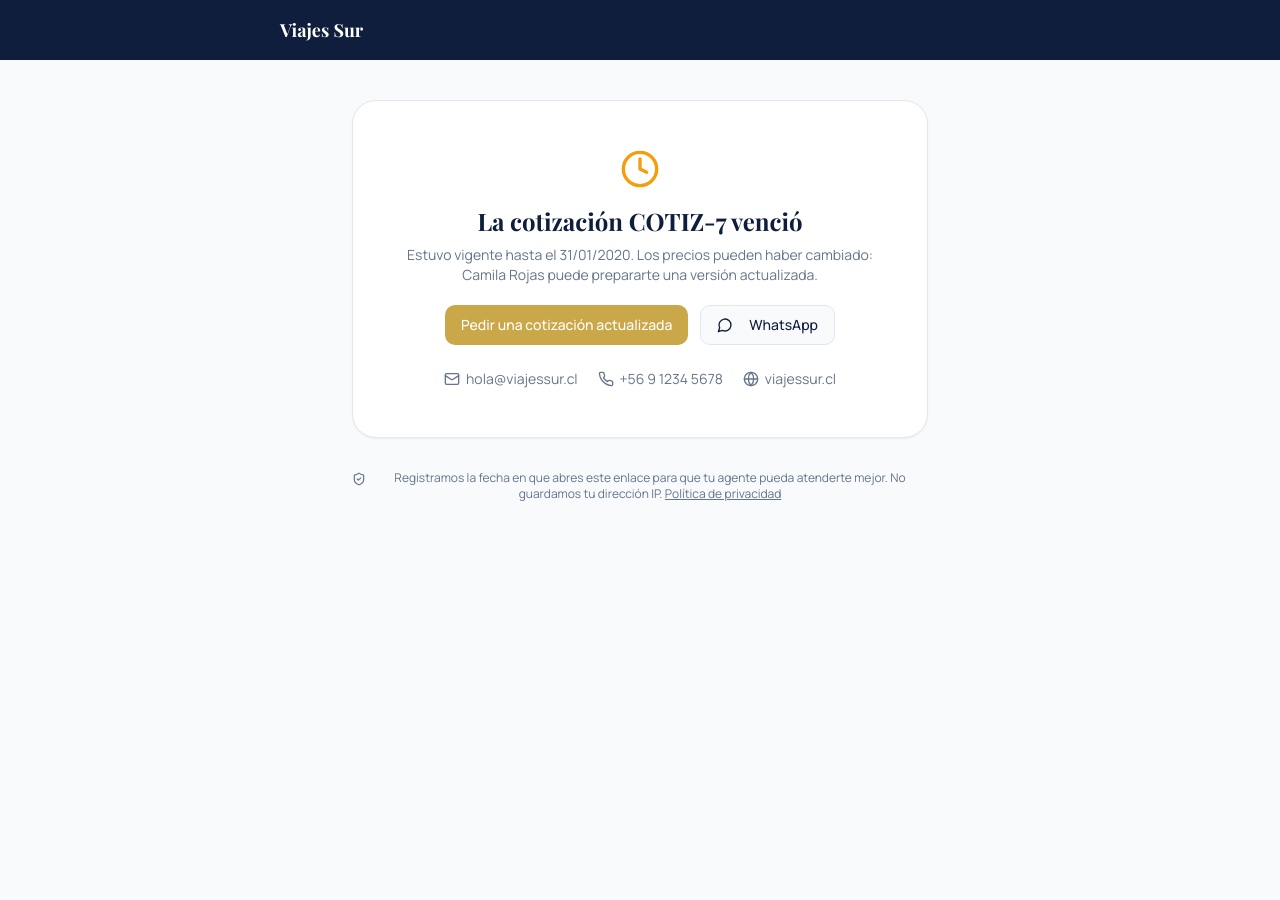
Test: PublicQuotation › cotización vencida: no muestra precios, ofrece pedir una actualizada y WhatsApp
Expected: the heading "La cotización COTIZ-7 venció" is shown, [478,205,803,237]
Expected: the text "hasta el 31/01/2020" is shown, [407,245,873,284]
Click the button "Pedir una cotización actualizada" at coordinates (567, 325), box [445,305,688,345]
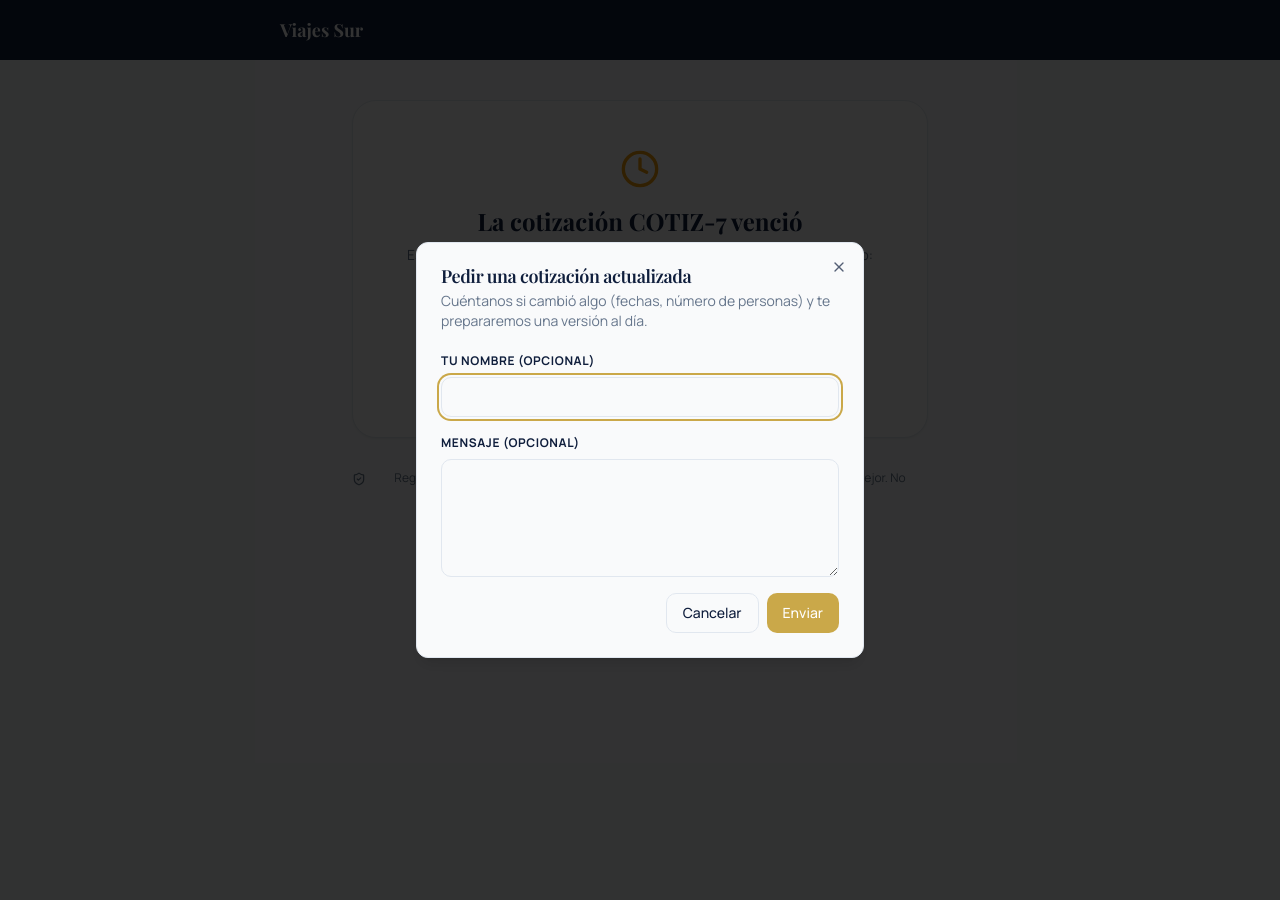
Type "Sigo interesada" into the text box labelled "Mensaje (opcional)" at coordinates (640, 518), box [441,459,839,577]
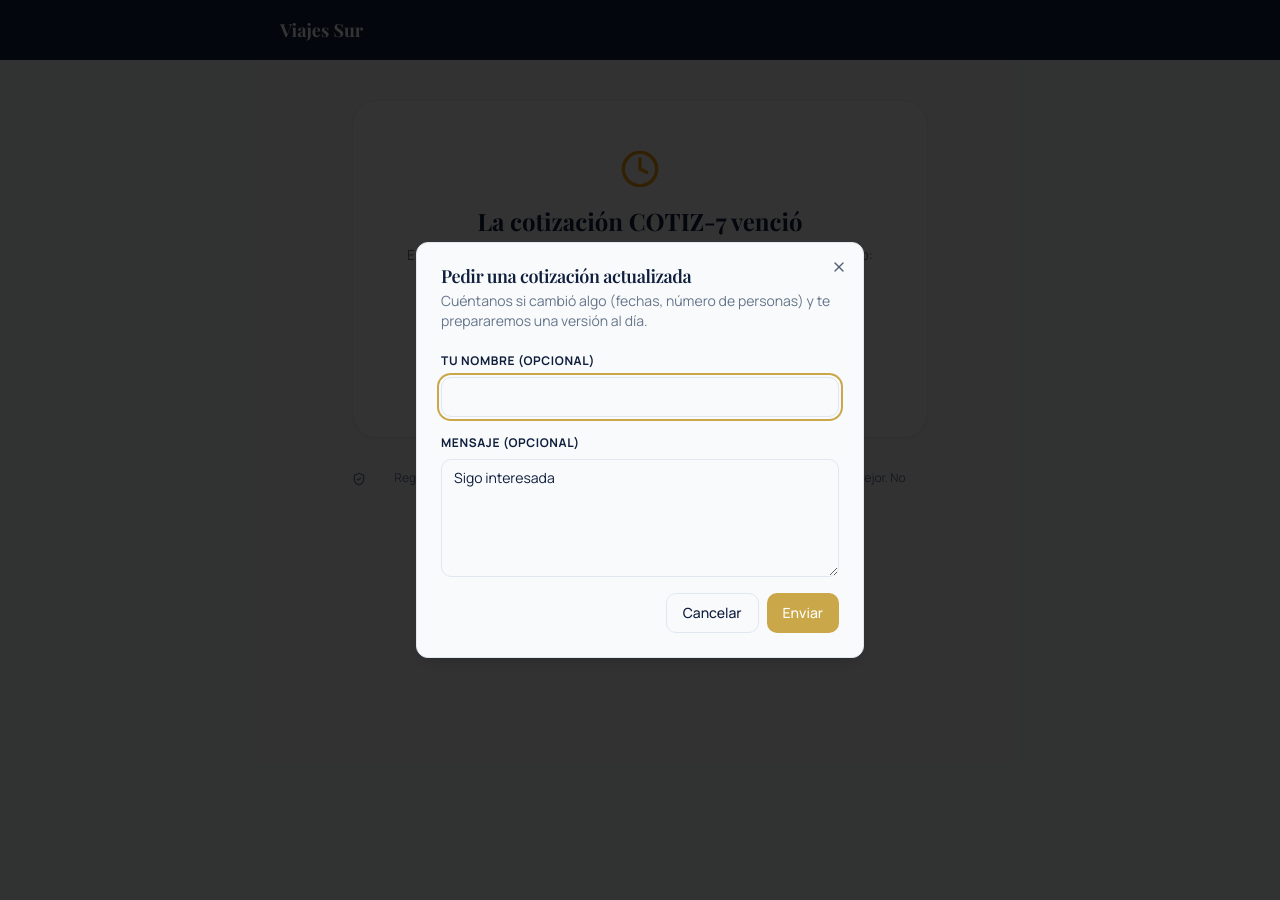
Click the button "Enviar" at coordinates (803, 613), box [767,593,839,633]
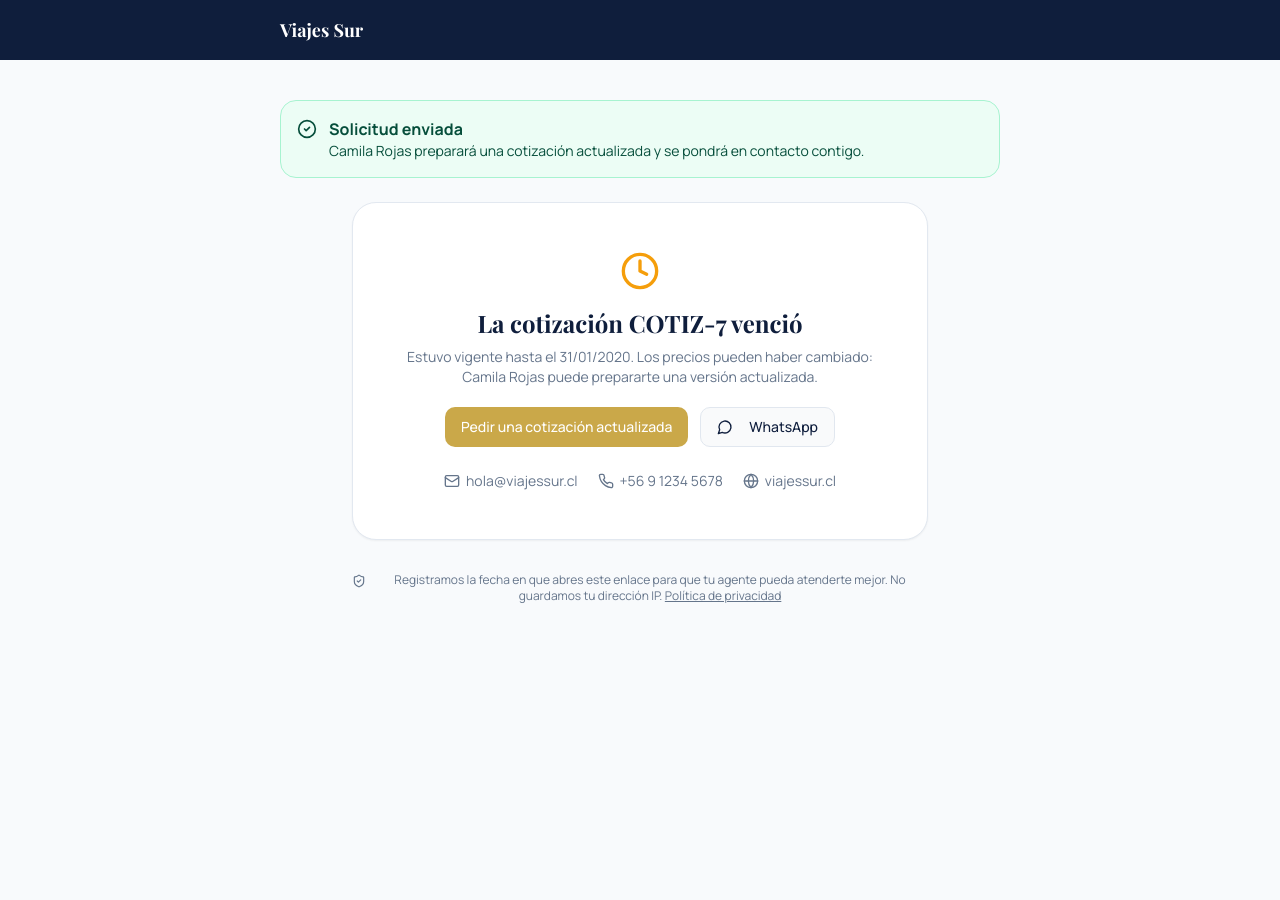
Expected: the text "Solicitud enviada" is shown, [329,118,463,140]
